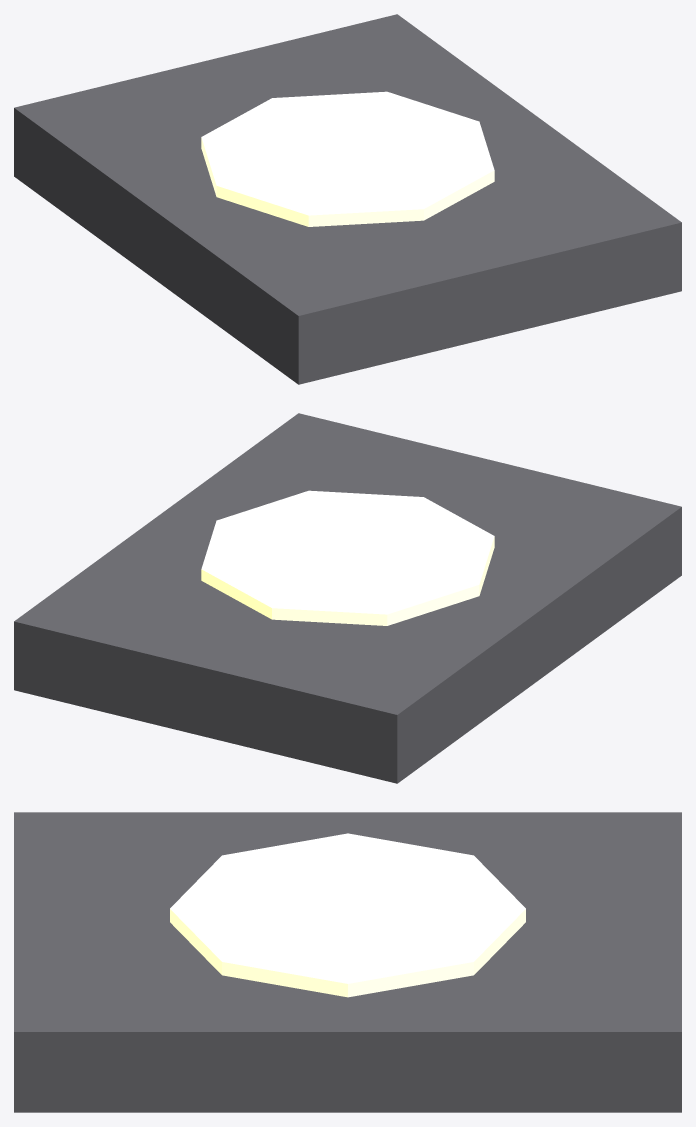
File: runestone.glb
The picture shows the model from 3 angles, top to bottom: view 1: azimuth 30°, elevation 25°; view 2: azimuth 150°, elevation 25°; view 3: azimuth 270°, elevation 25°; orthographic projection. The views are drawn at different scales.
Visible parts, largest first — view 1: Cube, Cylinder; view 2: Cube, Cylinder; view 3: Cube, Cylinder.
Part boxes in pixels (x1,y1,x2,y2): Cube: (14, 14, 681, 384); Cylinder: (201, 91, 494, 226); Cube: (14, 413, 681, 783); Cylinder: (201, 490, 494, 625); Cube: (14, 812, 681, 1112); Cylinder: (170, 833, 525, 997).
Bounding box in the file's own units: 0.35 × 0.07 × 0.45.
